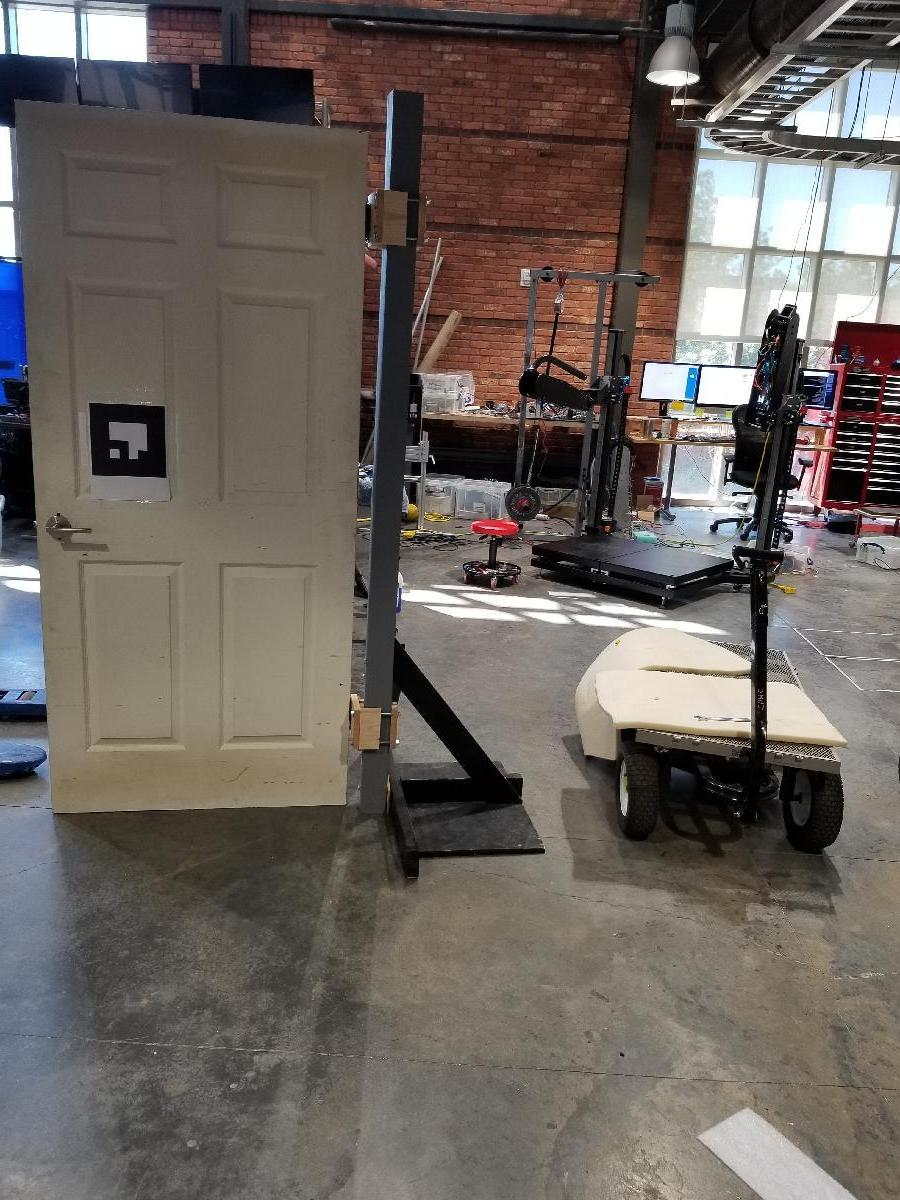door: (43, 108, 359, 811)
handle: (43, 512, 98, 540)
